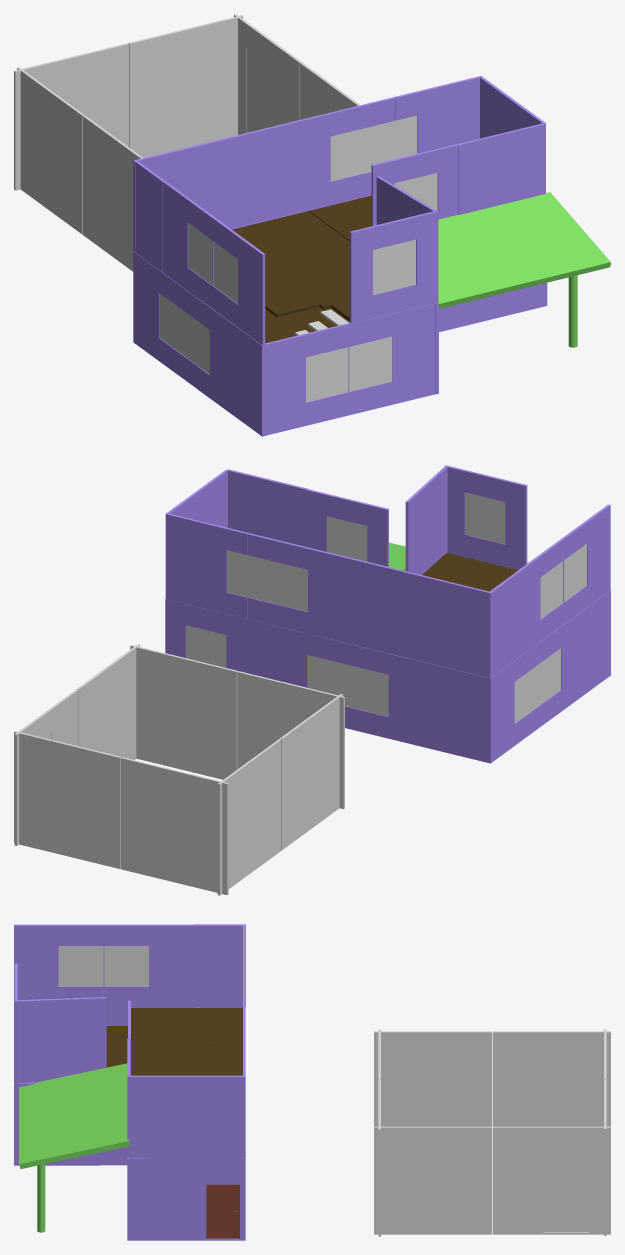
The model's file is остров эпштейна (4).fbx.
3 views of the same model, one above another, from view 1: azimuth 30°, elevation 25°; view 2: azimuth 150°, elevation 25°; view 3: azimuth 270°, elevation 25° (orthographic). The views are drawn at different scales.
Parts seen in each view (by area): view 1: Cube, Cube.046, Cube.011, Cube.001, Cube.002, Cube.052, Cube.029, Cube.005, Cube.003, Cube.006, Cube.007, Cube.004 (+15 smaller); view 2: Cube, Cube.046, Cube.003, Cube.002, Cube.010, Cube.052, Cube.005, Cube.006, Cube.019, Cube.011, Cube.008, Cube.059 (+14 smaller); view 3: Cube.004, Cube.046, Cube.008, Cube.006, Cube.005, Cube.001, Cube.007, Cube.059, Cube.029, Cube.044, Cube.030, Cube.048 (+9 smaller).
Part boxes in pixels (x1,y1,x2,y2): Cube: (133,76,480,343); Cube.046: (134,160,265,436); Cube.011: (260,211,438,436); Cube.001: (438,192,610,308); Cube.002: (128,15,243,157); Cube.052: (371,123,547,332); Cube.029: (232,195,371,320); Cube.005: (17,67,84,234); Cube.003: (14,43,128,190); Cube.006: (83,115,142,271); Cube.007: (234,14,301,134); Cube.004: (479,76,545,192); Cube: (165,513,492,763); Cube.046: (488,504,610,761); Cube.003: (121,757,228,894); Cube.002: (14,731,121,868); Cube.010: (130,645,237,779); Cube.052: (228,469,388,566); Cube.005: (217,739,281,895); Cube.006: (279,694,343,850); Cube.019: (237,671,344,808); Cube.011: (444,465,610,676); Cube.008: (76,644,139,759); Cube.059: (405,466,447,574); Cube.004: (129,1075,245,1240); Cube.046: (14,924,245,1082); Cube.008: (374,1126,492,1234); Cube.006: (374,1031,492,1126); Cube.005: (493,1031,610,1126); Cube.001: (19,1063,129,1169); Cube.007: (493,1126,610,1234); Cube.059: (16,997,106,1083); Cube.029: (106,1026,242,1075); Cube.044: (131,1008,242,1045); Cube.030: (543,1149,588,1232); Cube.048: (58,946,103,986).
Bounding box in the file's own units: 1619 × 862 × 2646.
